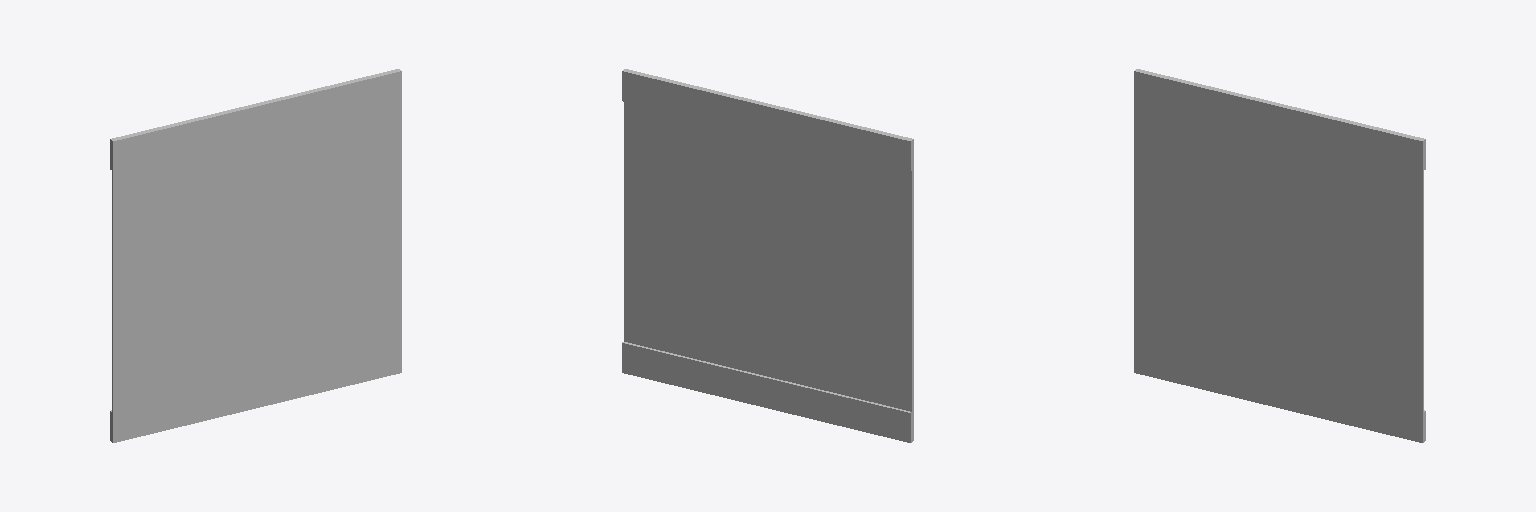
Rendered from road-straight.obj.
3 renders of one model, left to right at view 1: azimuth 30°, elevation 25°; view 2: azimuth 150°, elevation 25°; view 3: azimuth 330°, elevation 25°, orthographic.
Visible parts, largest first — view 1: road-straight.009; view 2: road-straight.009; view 3: road-straight.009.
Boxes of the visible parts, <box> form: road-straight.009: <box>110,69,401,442</box>; road-straight.009: <box>622,69,913,442</box>; road-straight.009: <box>1134,69,1425,442</box>.
Size of the model in its own units: 1 by 1 by 0.02.